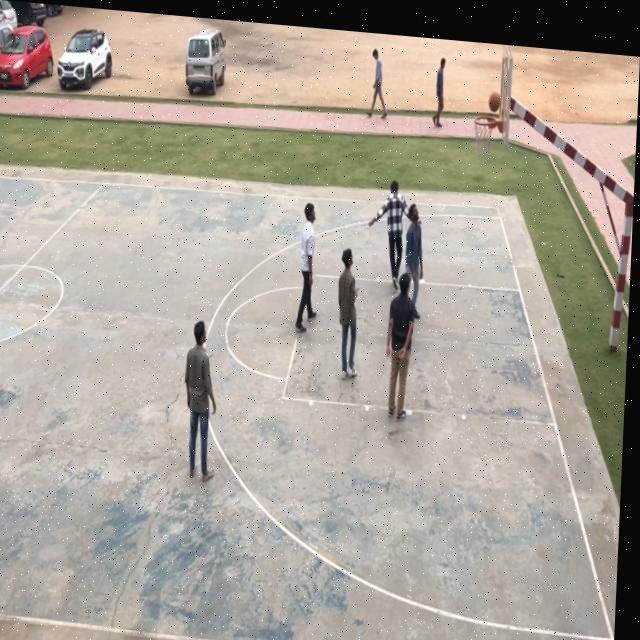basketball: (488, 89, 502, 115)
hoop: (471, 113, 496, 157)
